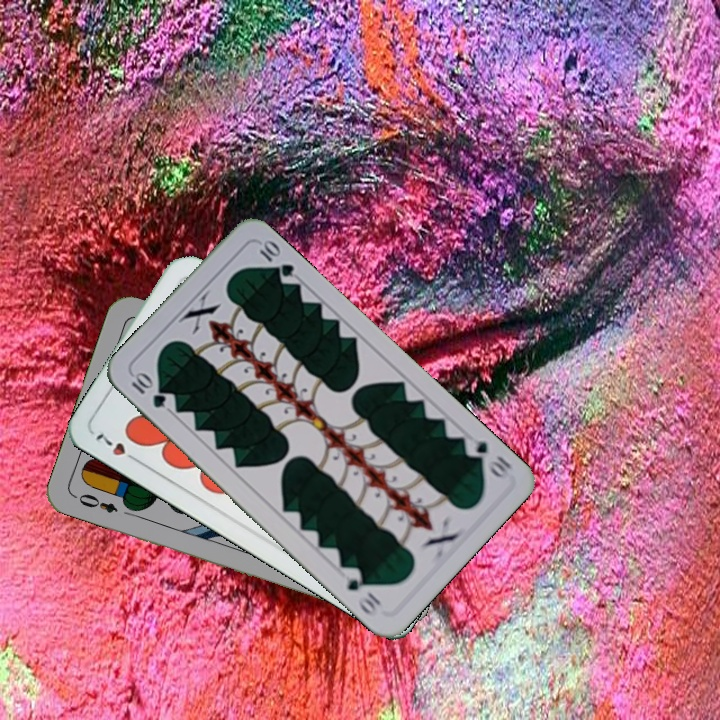EO: (69, 489, 121, 516)
G10: (460, 432, 515, 482), (127, 368, 169, 411)
H7: (92, 428, 143, 466)
